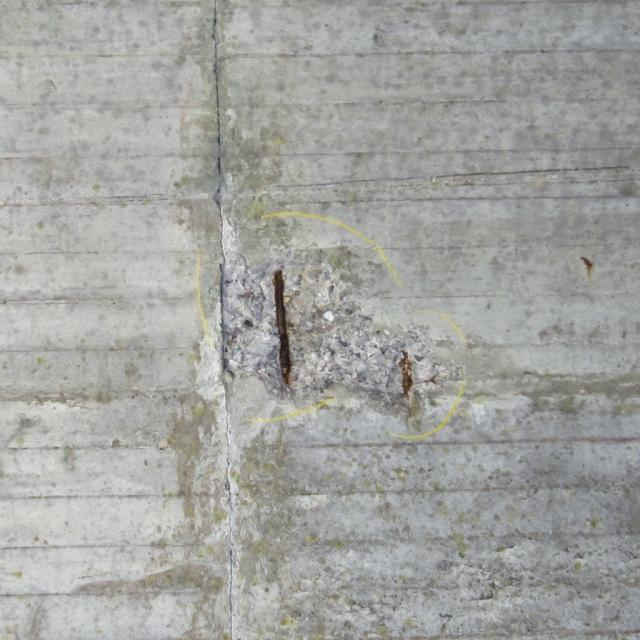D10: (222, 244, 462, 417)
